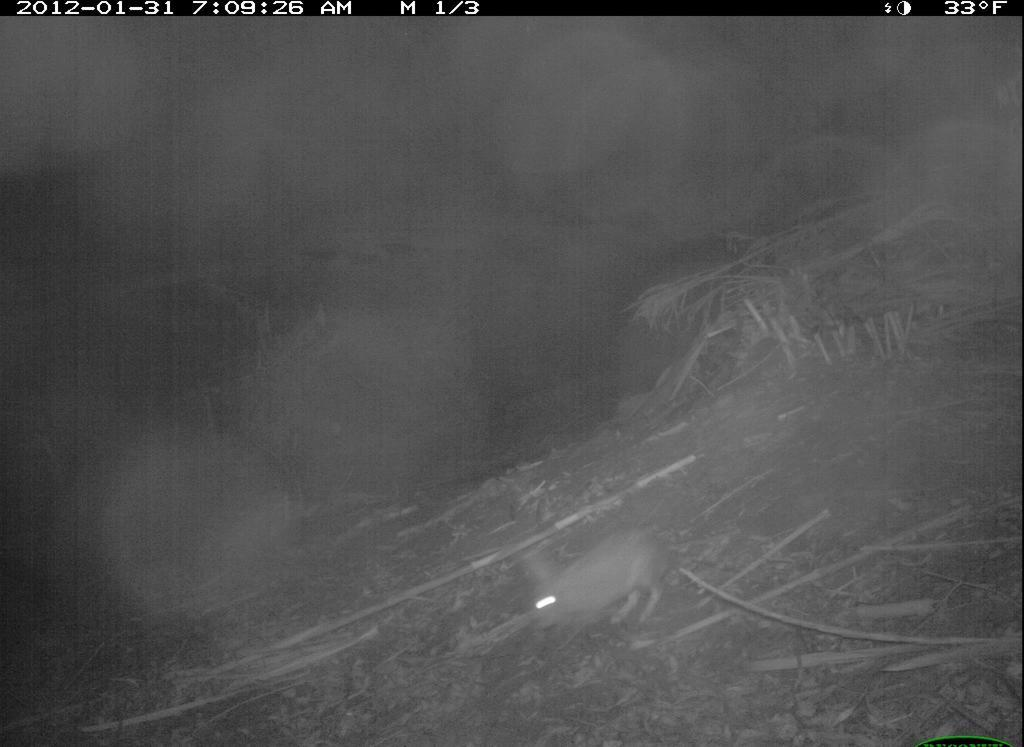rabbit: (511, 533, 673, 637)
